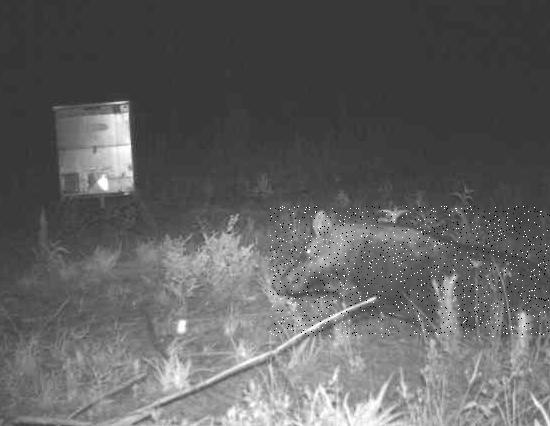Hog: (270, 206, 550, 337)
